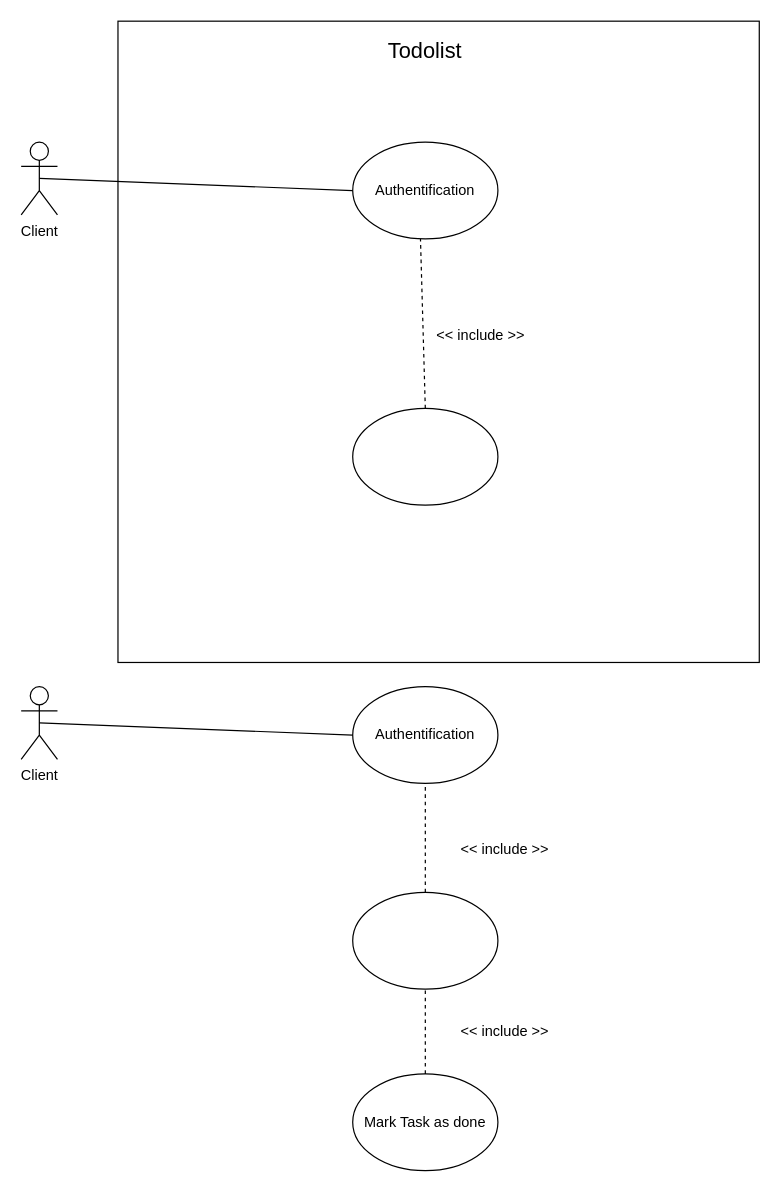
Some shapes in this 780 by 1192 pixel diagram are drawn without their labels. Here are the shapes that lost their labels. From the top down, the centre of each, then its label:
At point (425, 456): "Create a Task".
At point (425, 940): "Show list of Tasks".
